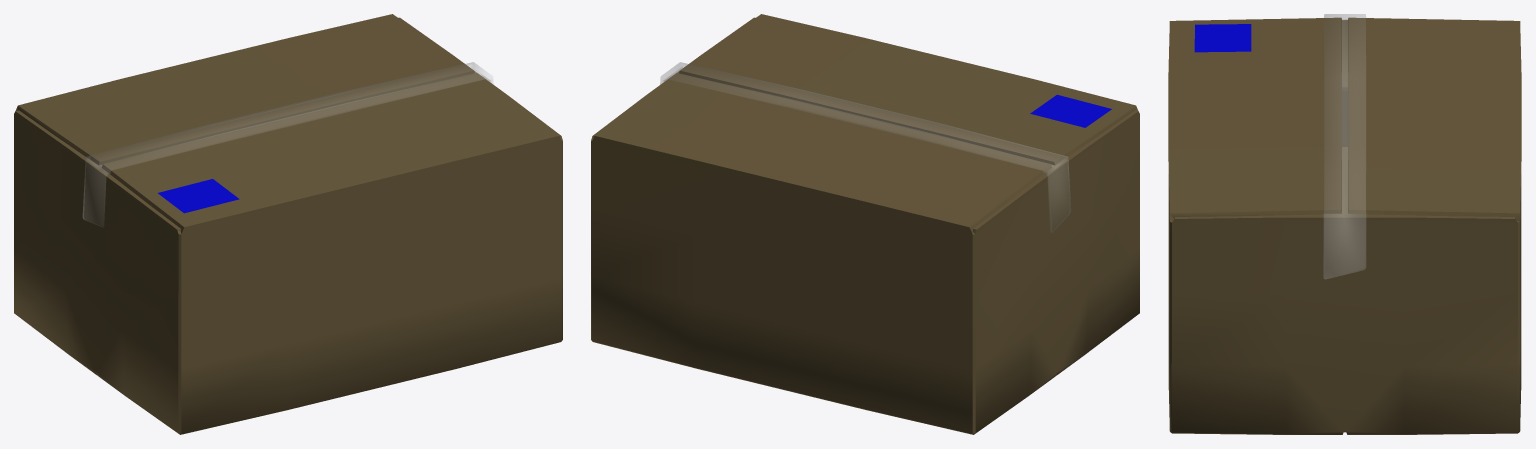
The picture shows the model from 3 angles, left to right: view 1: azimuth 30°, elevation 25°; view 2: azimuth 150°, elevation 25°; view 3: azimuth 270°, elevation 25°; orthographic projection. The views are drawn at different scales.
Parts seen in each view (by area): view 1: Box001, Stamp; view 2: Box001, Stamp; view 3: Box001, Stamp.
Boxes of the visible parts, x1,y1,x2,y2 form: Box001: (14,14,562,434); Stamp: (158,179,239,213); Box001: (591,14,1139,434); Stamp: (1030,94,1111,127); Box001: (1168,14,1521,434); Stamp: (1194,24,1251,52).
Bounding box in the file's own units: 16.16 × 8.45 × 11.9.
